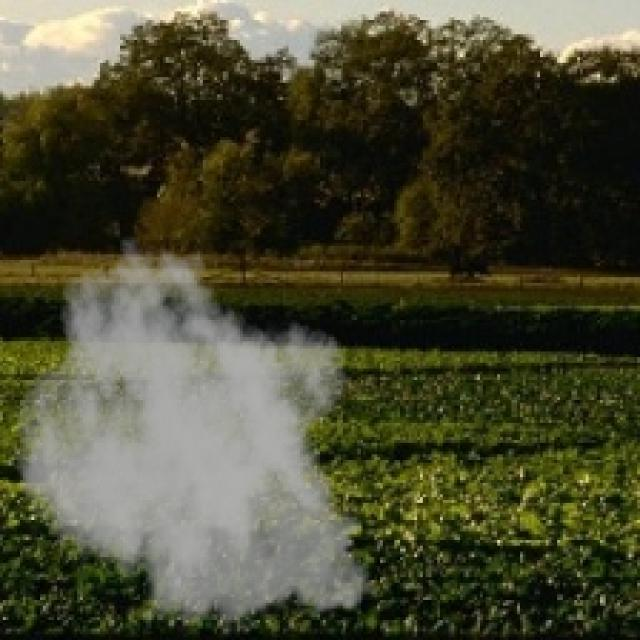smoke: (14, 234, 386, 637)
